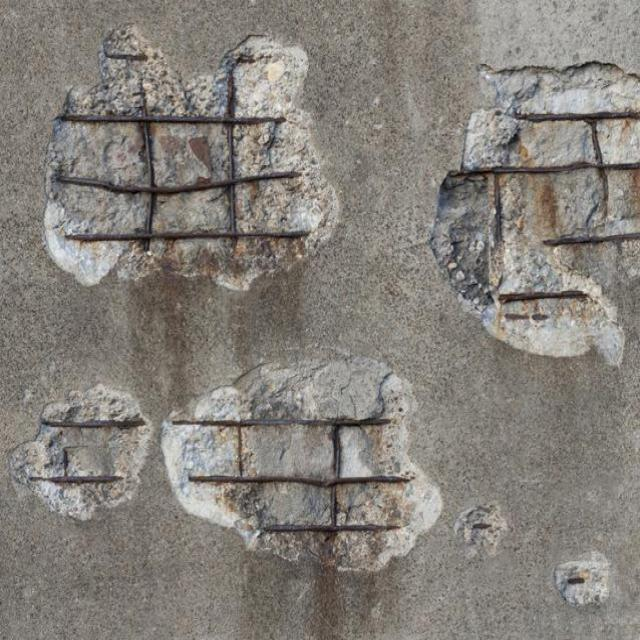Rebar: (43, 22, 339, 292), (426, 61, 639, 367), (160, 344, 443, 572), (6, 382, 153, 520), (552, 548, 610, 606), (452, 499, 508, 559)
